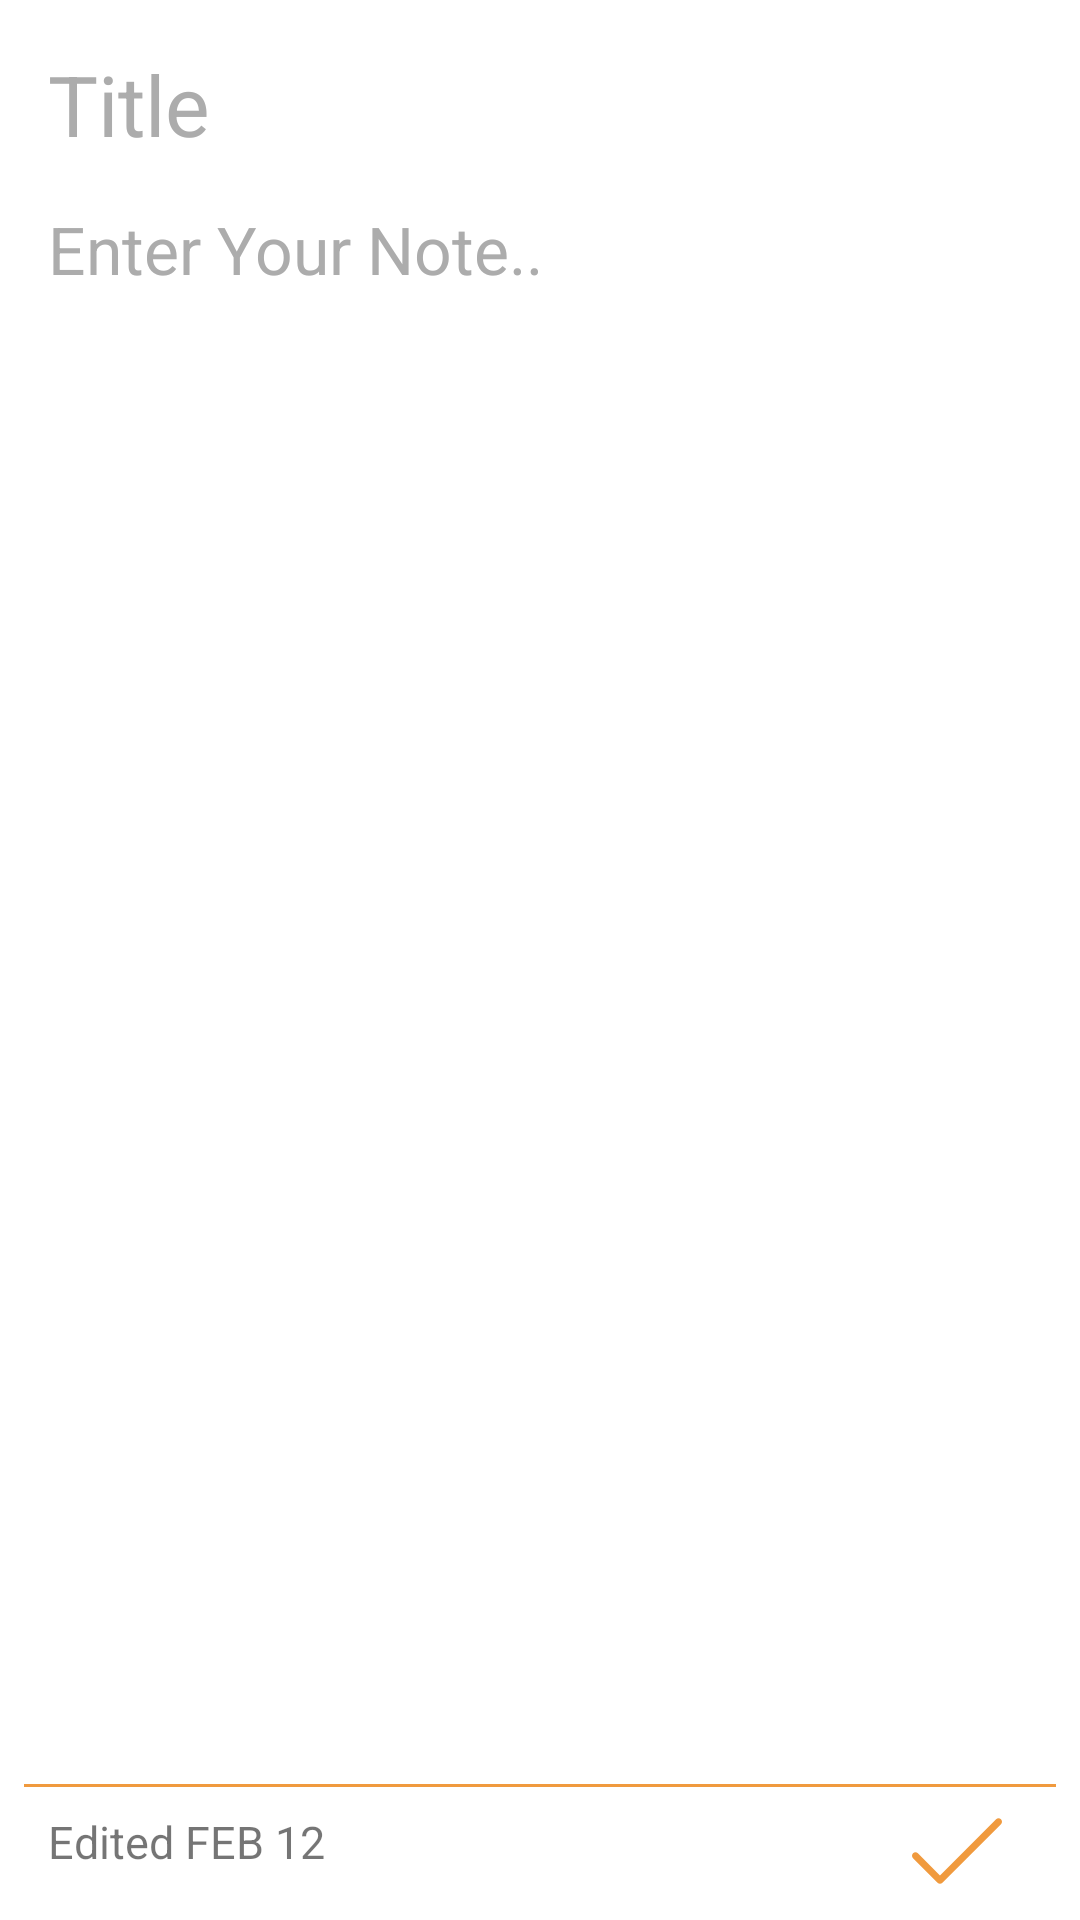

Named icons in this screenshot (1080px x 1920px) and their bounding boxes, [left=x1, top=y1, right=x2, bottom=y2]:
check circle: [left=912, top=1818, right=1002, bottom=1884]
